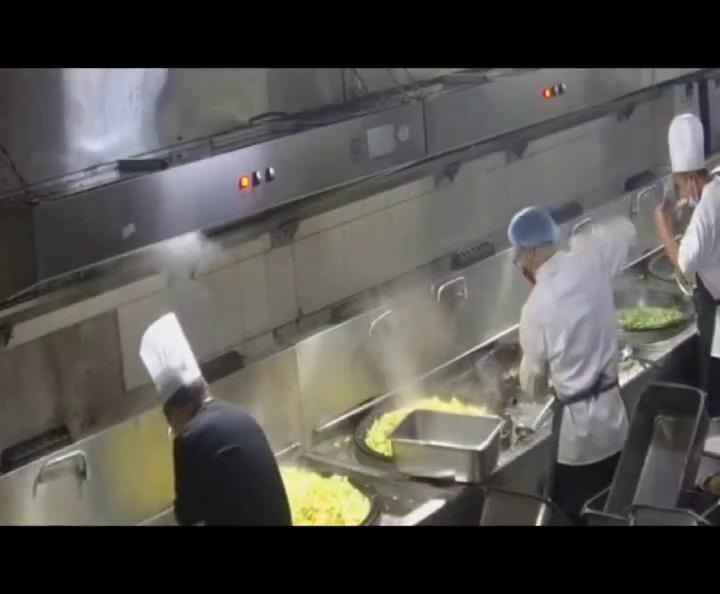mask: (670, 173, 706, 206)
